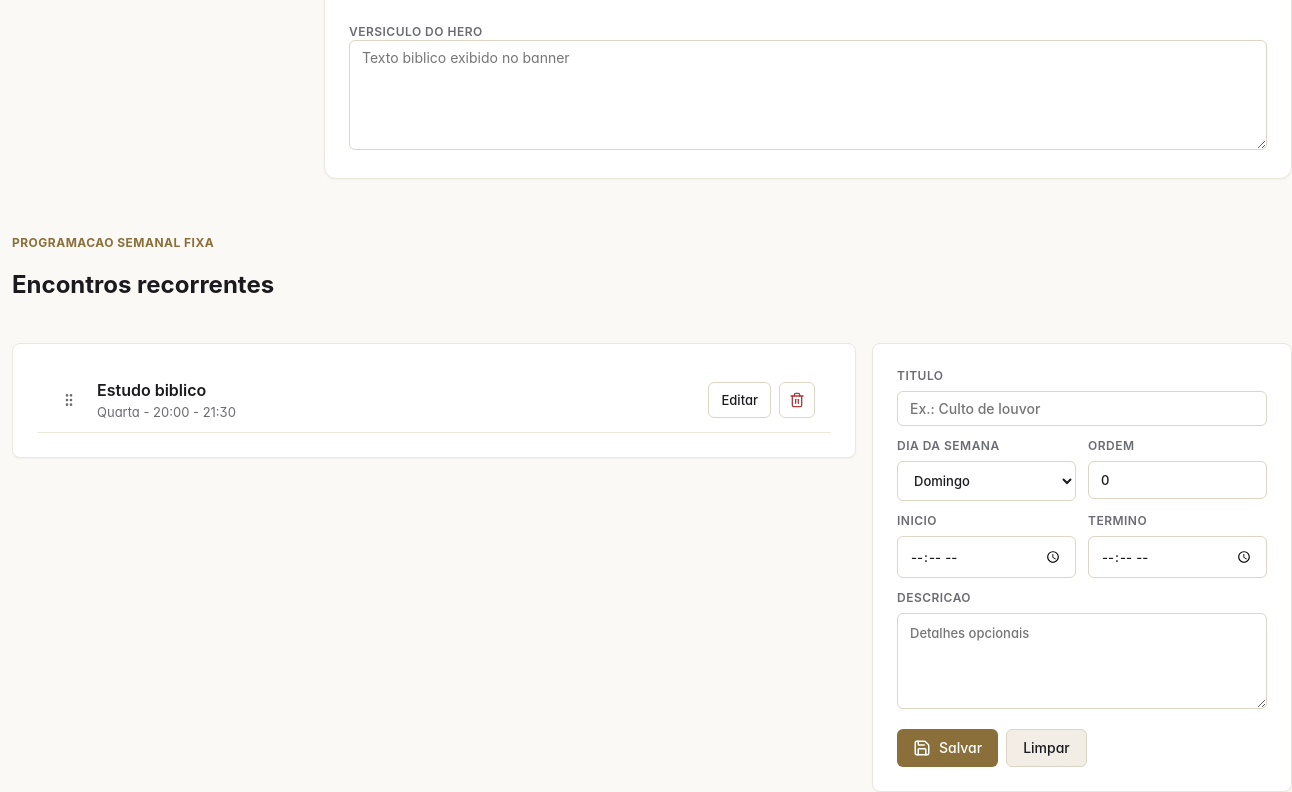
ProfileView › populates form when editing a recurring meeting
(page scrolled)
Click the button "Editar".
click(740, 400)  # box [708,382,771,418]
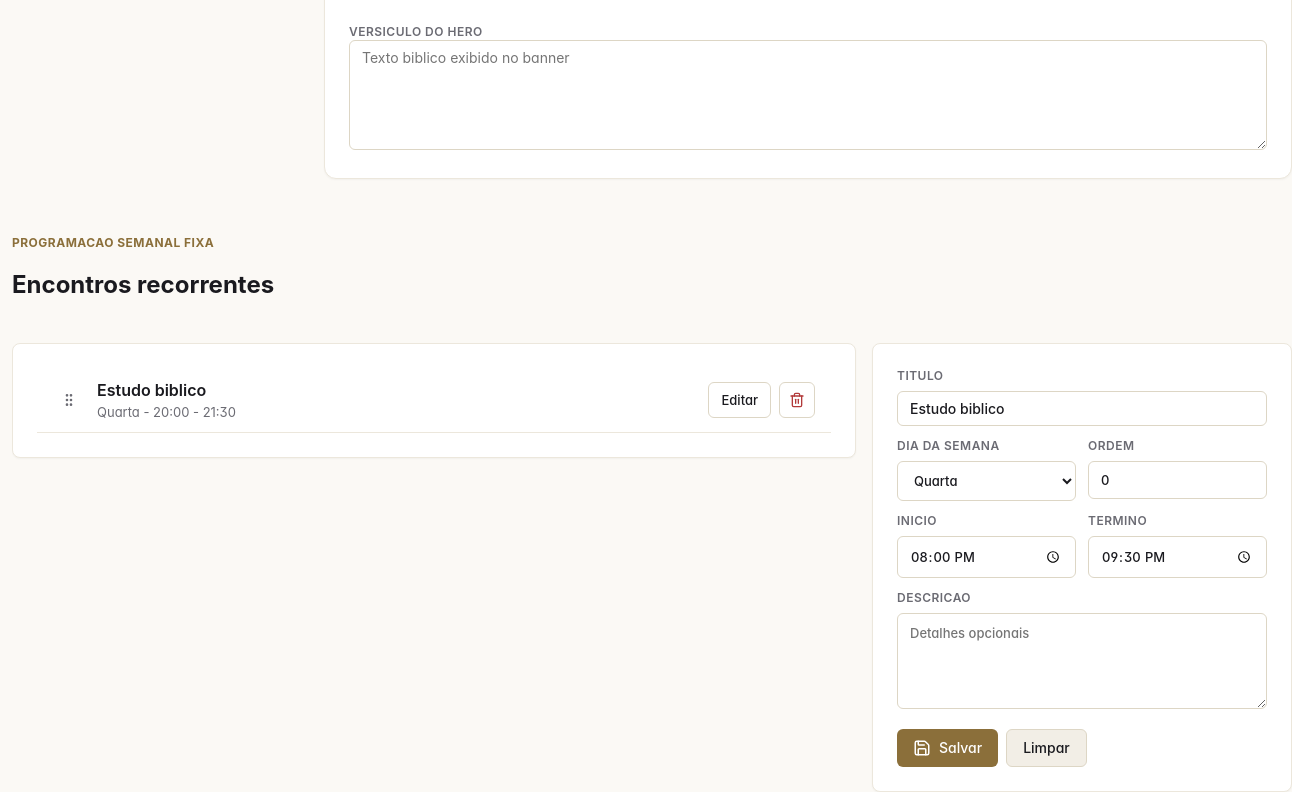
Expected: the field labelled "Titulo" holds "Estudo biblico", [897,391,1267,426]
Expected: the time field labelled "Inicio" holds "20:00", [897,536,1076,578]
Expected: the time field labelled "Termino" holds "21:30", [1088,536,1267,578]
